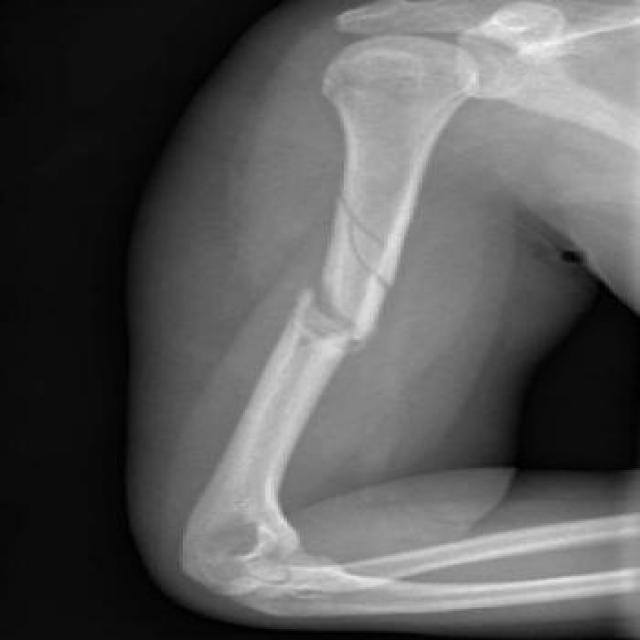fracture: (294, 182, 426, 292), (282, 278, 386, 360)
